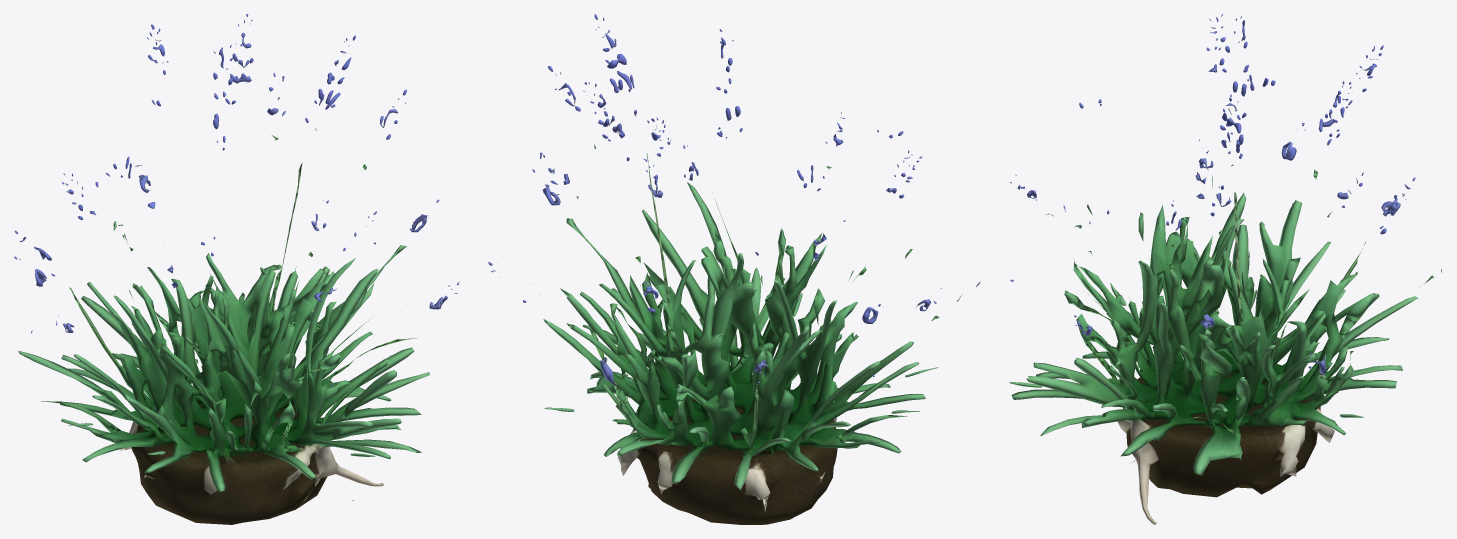
Rendered from blue_heather.glb.
3 renders of one model, left to right at view 1: azimuth 30°, elevation 25°; view 2: azimuth 150°, elevation 25°; view 3: azimuth 270°, elevation 25°, orthographic. The views are drawn at different scales.
Parts seen in each view (by area): view 1: model; view 2: model; view 3: model.
Part boxes in pixels (box(x1,y1,x2,y2)): model: box(14, 14, 459, 524); model: box(488, 14, 980, 524); model: box(1009, 14, 1442, 524).
Size of the model in its own units: 1.65 by 1.81 by 1.57.
Materials: 1 (1 with a texture image).
